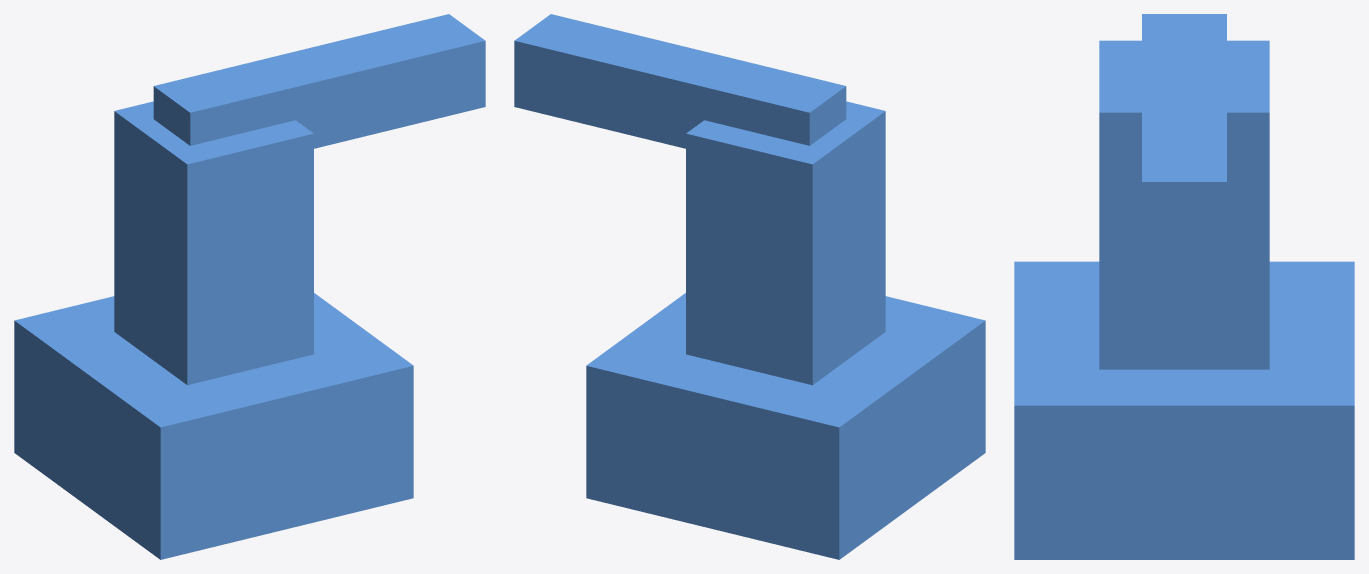
The model's file is prop.gltf.
The picture shows the model from 3 angles, left to right: view 1: azimuth 30°, elevation 25°; view 2: azimuth 150°, elevation 25°; view 3: azimuth 270°, elevation 25°; orthographic projection. The views are drawn at different scales.
Visible parts, largest first — view 1: base, body, arm; view 2: base, body, arm; view 3: base, body, arm.
Part boxes in pixels (x1,y1,x2,y2): base: (14, 293, 413, 559); body: (114, 101, 313, 385); arm: (153, 14, 485, 148); base: (586, 293, 985, 559); body: (686, 101, 885, 385); arm: (514, 14, 846, 148); base: (1014, 261, 1354, 559); body: (1099, 40, 1269, 369); arm: (1142, 14, 1226, 258).
Size of the model in its own units: 0.9 by 0.875 by 0.6.
